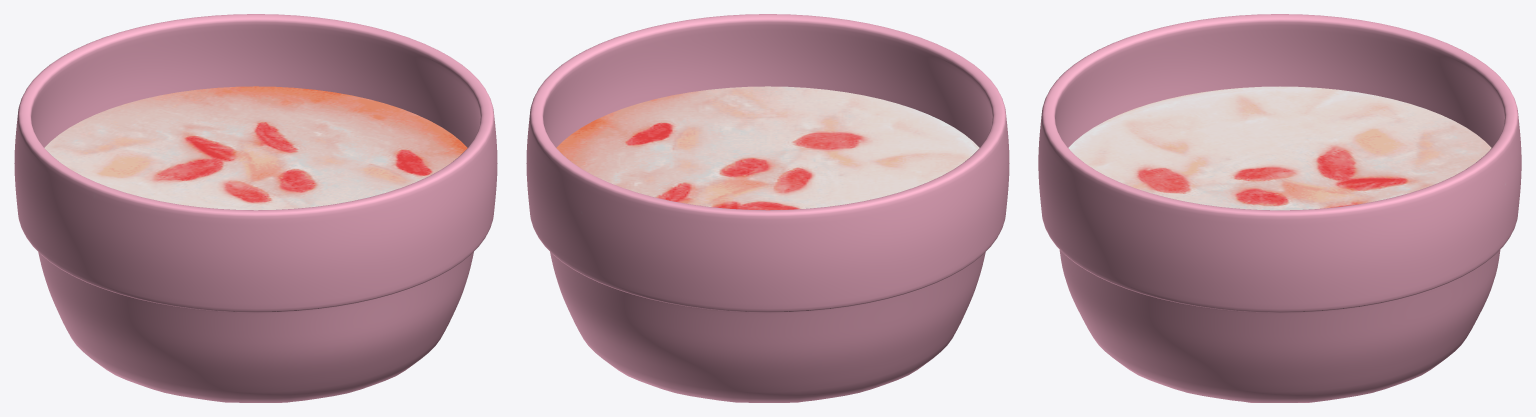
The model's file is kasha.fbx.
3 renders of one model, left to right at view 1: azimuth 30°, elevation 25°; view 2: azimuth 150°, elevation 25°; view 3: azimuth 270°, elevation 25°, orthographic.
Visible parts, largest first — view 1: plate.001, kasha.001; view 2: plate.001, kasha.001; view 3: plate.001, kasha.001.
Part boxes in pixels (bbox=[...]): plate.001: bbox=[14, 14, 497, 402]; kasha.001: bbox=[44, 86, 467, 210]; plate.001: bbox=[526, 14, 1009, 402]; kasha.001: bbox=[556, 86, 979, 210]; plate.001: bbox=[1038, 14, 1521, 402]; kasha.001: bbox=[1068, 86, 1491, 210].
Bounding box in the file's own units: 205 × 108 × 205.
Materials: 2 (2 with a texture image).
